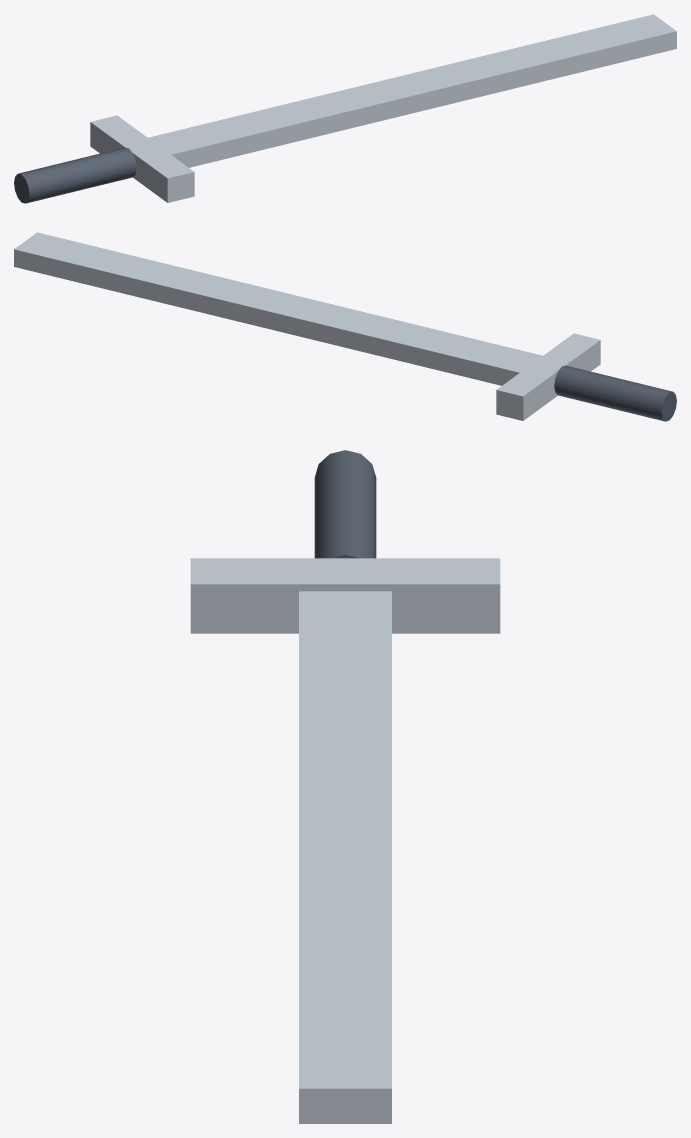
Rendered from sword_long.glb.
3 views of the same model, one above another, from view 1: azimuth 30°, elevation 25°; view 2: azimuth 150°, elevation 25°; view 3: azimuth 270°, elevation 25° (orthographic). The views are drawn at different scales.
Parts seen in each view (by area): view 1: blade, guard, grip; view 2: blade, guard, grip; view 3: blade, guard, grip.
Part boxes in pixels (box(x1,y1,x2,y2)): blade: box(148, 14, 676, 167); guard: box(90, 115, 194, 202); grip: box(14, 147, 136, 203); blade: box(14, 232, 542, 385); guard: box(496, 333, 600, 420); grip: box(554, 365, 676, 421); blade: box(299, 591, 391, 1123); guard: box(190, 558, 500, 633); grip: box(314, 450, 376, 558).
Bounding box in the file's own units: 0.96 × 0.04 × 0.2.
